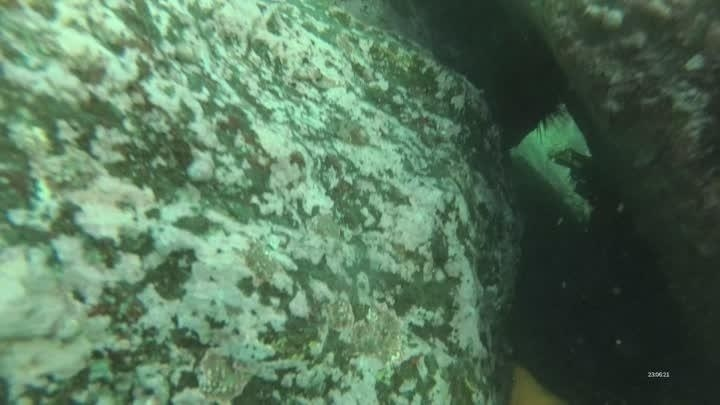echinus: (482, 39, 569, 143)
holothurian: (506, 127, 597, 227)
